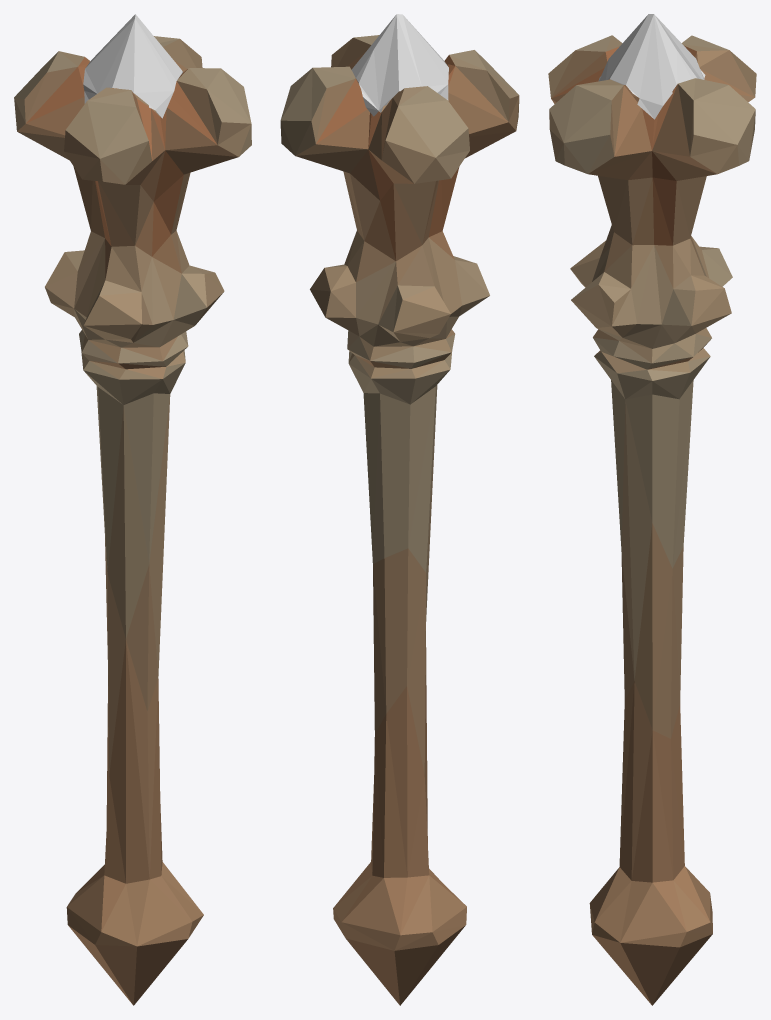
Rendered from aiwpn_wand.glb.
3 renders of one model, left to right at view 1: azimuth 30°, elevation 25°; view 2: azimuth 150°, elevation 25°; view 3: azimuth 270°, elevation 25°, orthographic.
Visible parts, largest first — view 1: ca_aiwpn_wand; view 2: ca_aiwpn_wand; view 3: ca_aiwpn_wand.
Boxes of the visible parts, x1,y1,x2,y2 form: ca_aiwpn_wand: [14, 14, 251, 1005]; ca_aiwpn_wand: [280, 14, 519, 1005]; ca_aiwpn_wand: [548, 14, 756, 1005].
Size of the model in its own units: 0.1422 by 0.755 by 0.1435.
